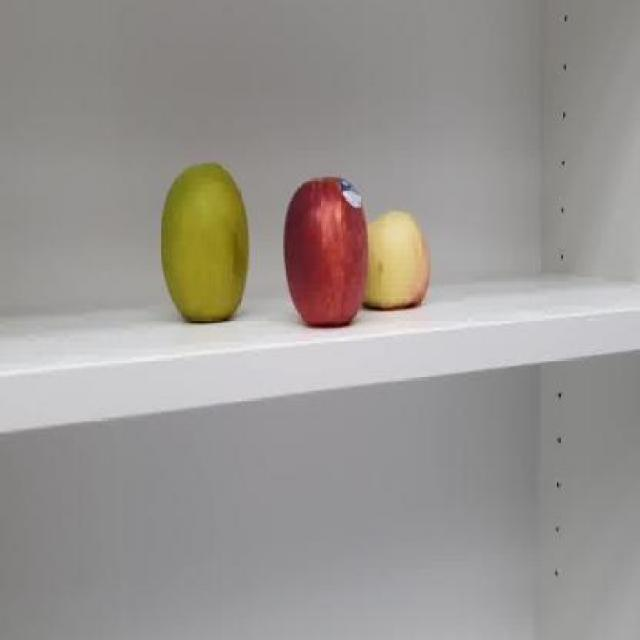Fresh Apple: (161, 164, 248, 327), (280, 171, 364, 330), (361, 193, 422, 310)
